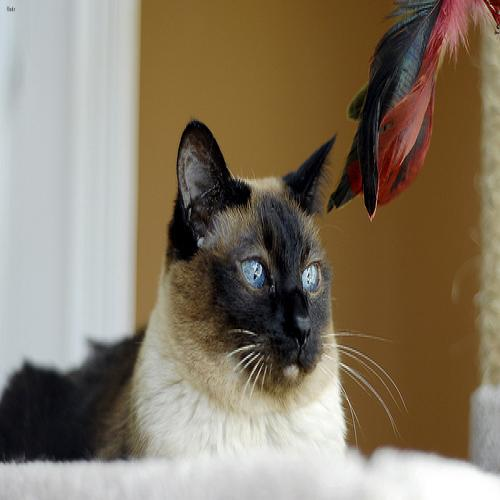siamese: (171, 98, 352, 427)
